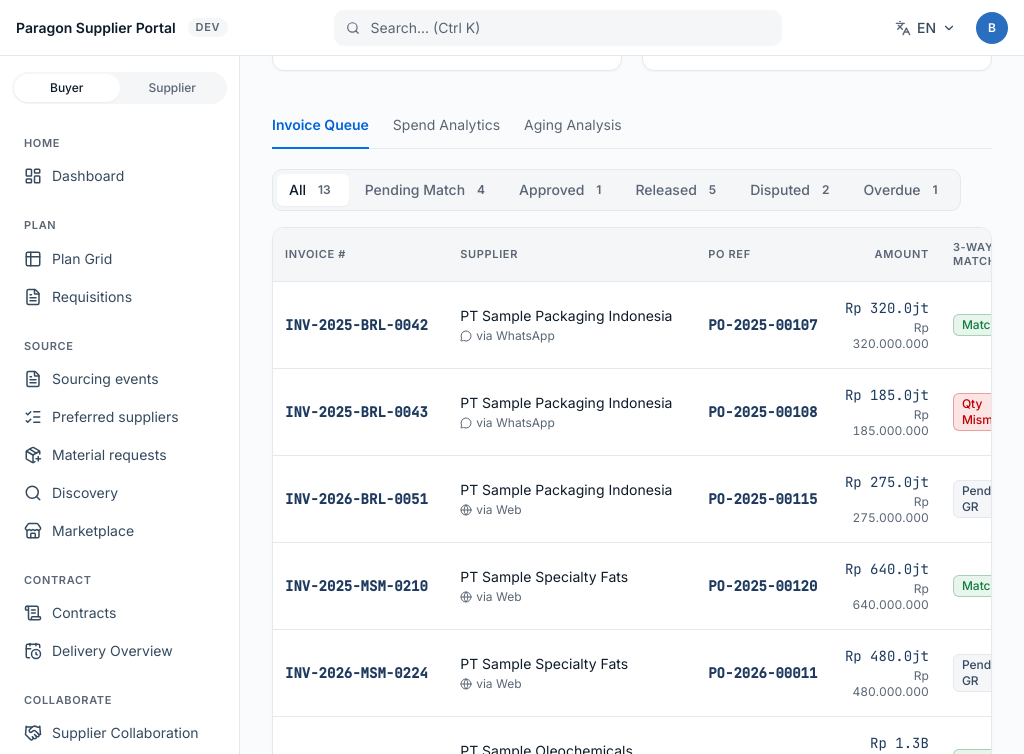
⚠️ THE DISPUTED INVOICE — the footer verb that is NOT the solid commit › the resolve button is replaced by the wait for a procurement seat
(page scrolled)
Click the text "INV-2025-BRL-0043" at (361, 412), box [285,402,436,422]
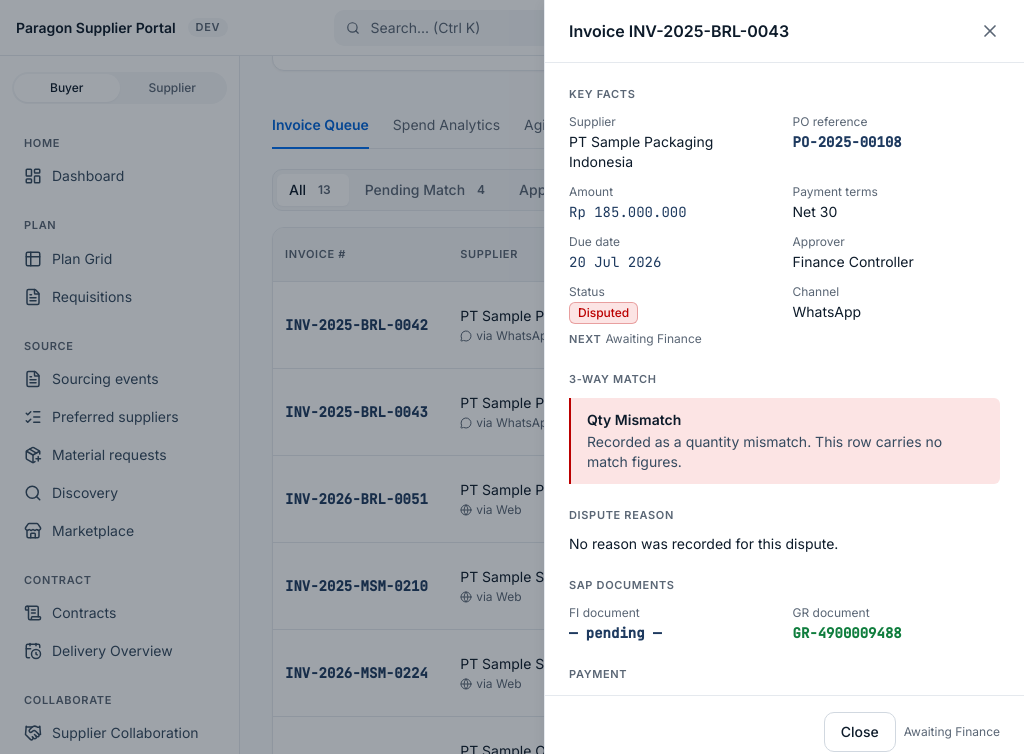
Expected: the text with test id "handoff-commit" reads "Awaiting Finance", [904,724,1000,739]
